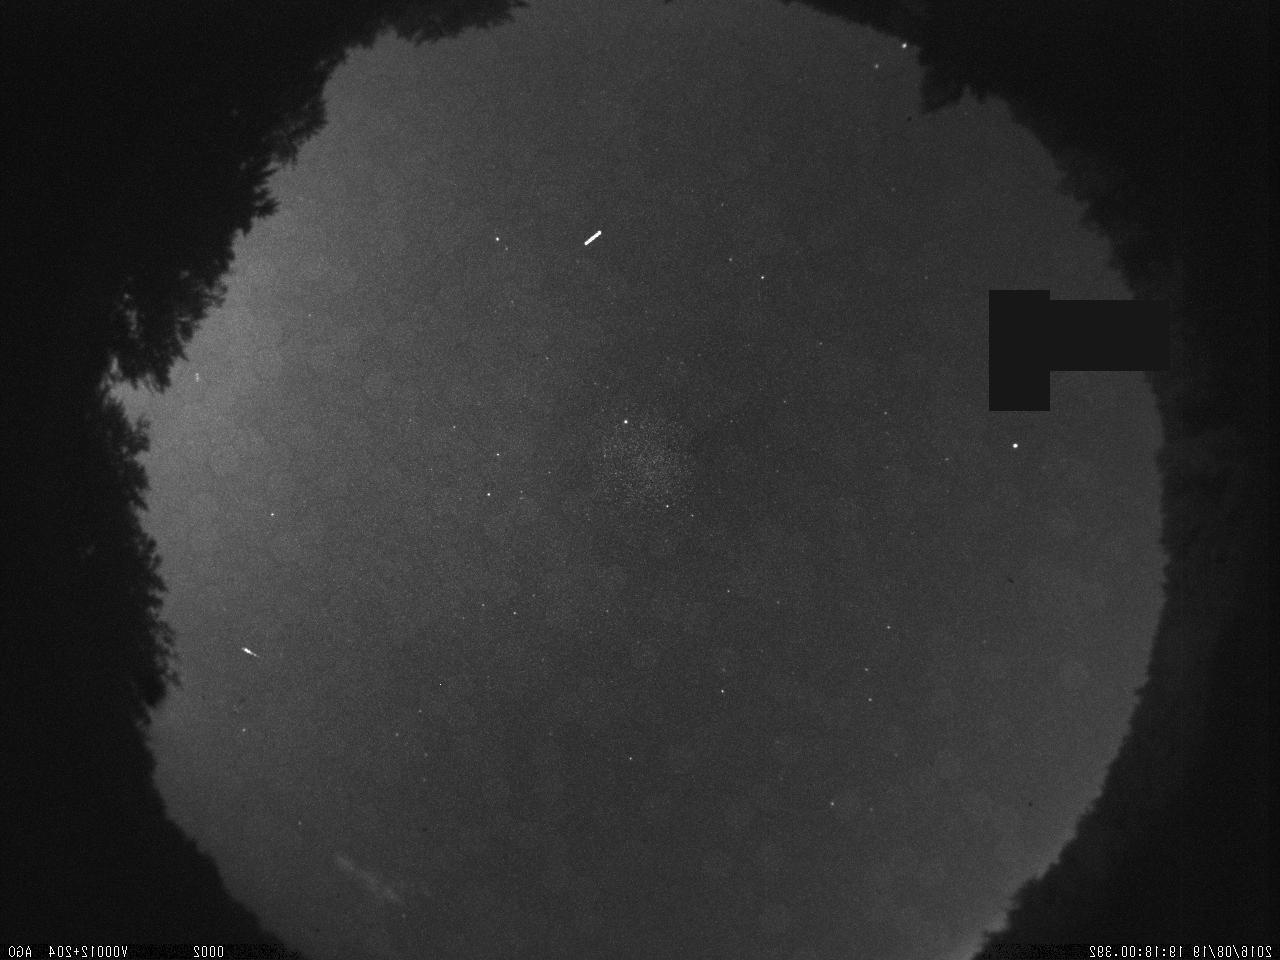meteor: (236, 641, 268, 665)
